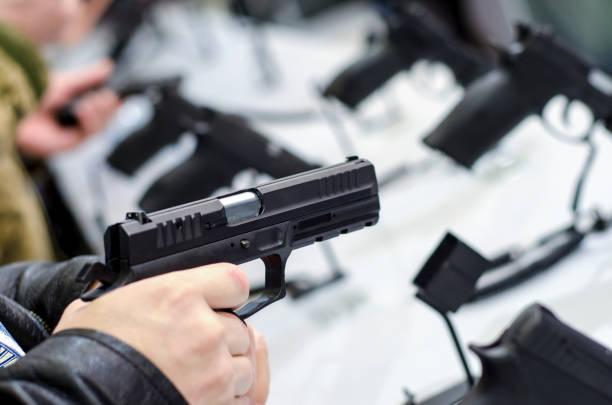weapon: (78, 152, 380, 322)
